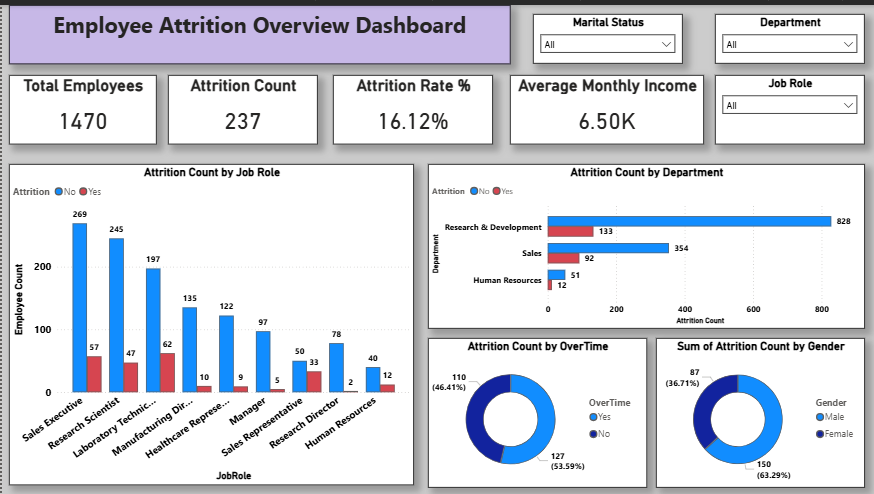

The page's visual inventory and layout, read from the dashboard file:
{"tool":"powerbi","page":{"name":"Attrition","canvas":[1280,720],"ordinal":0},"visuals":[{"type":"card","title":"Total Employees","fields":{"Values":["Sum(HR-Attrition-Cleaned.EmployeeCount)"]},"box":[10,103.3,216.7,101.7],"z":0},{"type":"card","title":"Attrition Count","fields":{"Values":["Sum(HR-Attrition-Cleaned.Attrition Count)"]},"box":[243.3,103.3,220,101.7],"z":1000},{"type":"card","title":"Attrition Rate %","fields":{"Values":["HR-Attrition-Cleaned.Attrition-Percentage"]},"box":[486.7,103.3,235,101.7],"z":2000},{"type":"card","title":"Average Monthly Income","fields":{"Values":["Avg(HR-Attrition-Cleaned.MonthlyIncome)"]},"box":[746.7,103.3,285,101.7],"z":3000},{"type":"clusteredBarChart","title":"Attrition Count by Department","fields":{"Category":["HR-Attrition-Cleaned.Department"],"Y":["Sum(HR-Attrition-Cleaned.EmployeeCount)"],"Series":["HR-Attrition-Cleaned.Attrition"]},"box":[626.7,233.3,641.7,241.7],"z":4000},{"type":"clusteredColumnChart","title":"Attrition Count by Job Role","fields":{"Category":["HR-Attrition-Cleaned.JobRole"],"Y":["Sum(HR-Attrition-Cleaned.EmployeeCount)"],"Series":["HR-Attrition-Cleaned.Attrition"]},"box":[10,233.3,595,471.7],"z":5000},{"type":"donutChart","title":"Attrition Count by OverTime","fields":{"Category":["HR-Attrition-Cleaned.OverTime"],"Y":["Sum(HR-Attrition-Cleaned.Attrition Count)"]},"box":[626.7,490,321.7,220],"z":6000},{"type":"donutChart","fields":{"Category":["HR-Attrition-Cleaned.Gender"],"Y":["Sum(HR-Attrition-Cleaned.Attrition Count)"]},"box":[961.7,490,306.7,220],"z":7000},{"type":"slicer","title":"Department","fields":{"Values":["HR-Attrition-Cleaned.Department"]},"box":[1048.3,13.3,220,73.3],"z":8000},{"type":"slicer","title":"Marital Status","fields":{"Values":["HR-Attrition-Cleaned.MaritalStatus"]},"box":[780,13.3,220,73.3],"z":9000},{"type":"slicer","title":"Job Role","fields":{"Values":["HR-Attrition-Cleaned.JobRole"]},"box":[1048.3,103.3,220,101.7],"z":10000},{"type":"textbox","box":[10,0,736.7,86.7],"z":11000}]}

Visuals, with their boxes in screenshot pixels (x1, y1, x2, y2), scaled from the page's 1280x720 canvas onto the 874x494 screenshot:
"Total Employees" card: {"x1": 7, "y1": 71, "x2": 155, "y2": 141}
"Attrition Count" card: {"x1": 166, "y1": 71, "x2": 316, "y2": 141}
"Attrition Rate %" card: {"x1": 332, "y1": 71, "x2": 493, "y2": 141}
"Average Monthly Income" card: {"x1": 510, "y1": 71, "x2": 704, "y2": 141}
"Attrition Count by Department" clusteredBarChart: {"x1": 428, "y1": 160, "x2": 866, "y2": 326}
"Attrition Count by Job Role" clusteredColumnChart: {"x1": 7, "y1": 160, "x2": 413, "y2": 484}
"Attrition Count by OverTime" donutChart: {"x1": 428, "y1": 336, "x2": 648, "y2": 487}
donutChart - HR-Attrition-Cleaned.Gender x Sum(HR-Attrition-Cleaned.Attrition Count): {"x1": 657, "y1": 336, "x2": 866, "y2": 487}
"Department" slicer: {"x1": 716, "y1": 9, "x2": 866, "y2": 59}
"Marital Status" slicer: {"x1": 533, "y1": 9, "x2": 683, "y2": 59}
"Job Role" slicer: {"x1": 716, "y1": 71, "x2": 866, "y2": 141}
textbox: {"x1": 7, "y1": 0, "x2": 510, "y2": 59}
